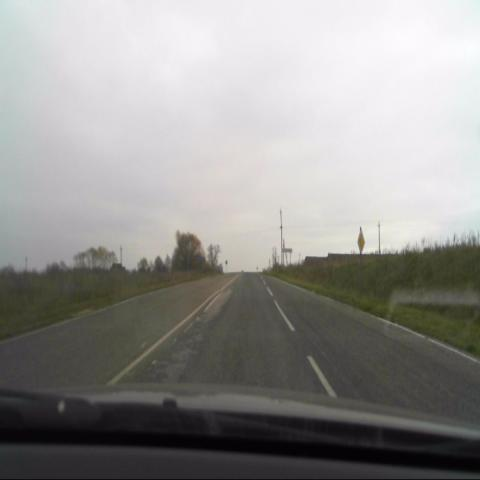2_1: (357, 229, 365, 253)
